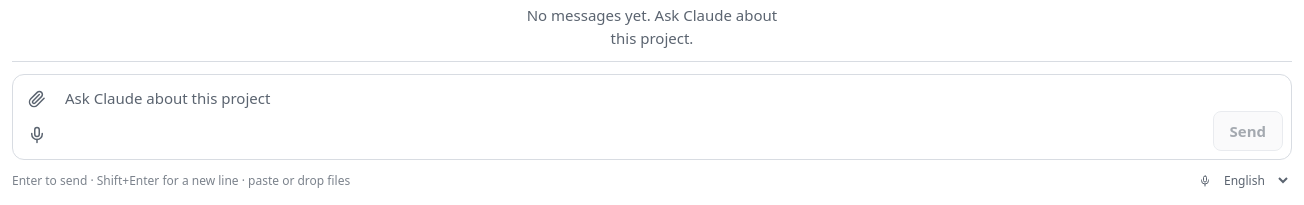
ChatPanel dictation › shows the timer while recording and blocks Send until it is done
In the text box named "Message": coordinates (633, 117) [61,83,1204,151], type "hi"
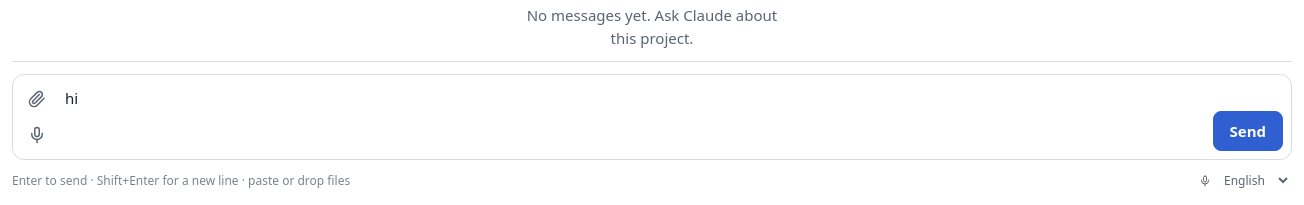
Click the button named "Dictate": coordinates (37, 135) [21,119,53,151]
Wait 65000 ms
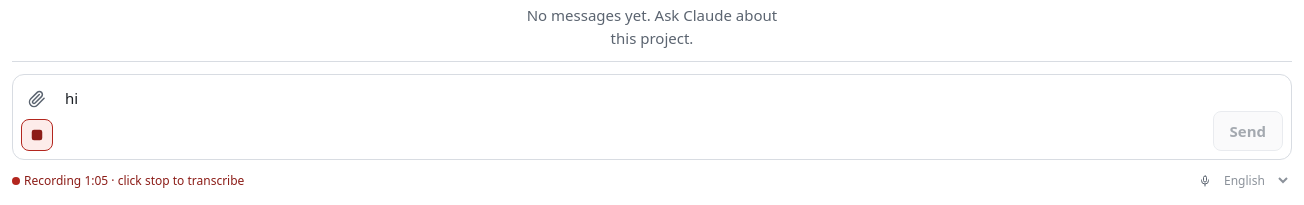
Expected: the text "Recording 1:05 · click stop to transcribe" is shown, [12,172,244,188]
Expected: the button "Send" is disabled, [1212,110,1283,151]
